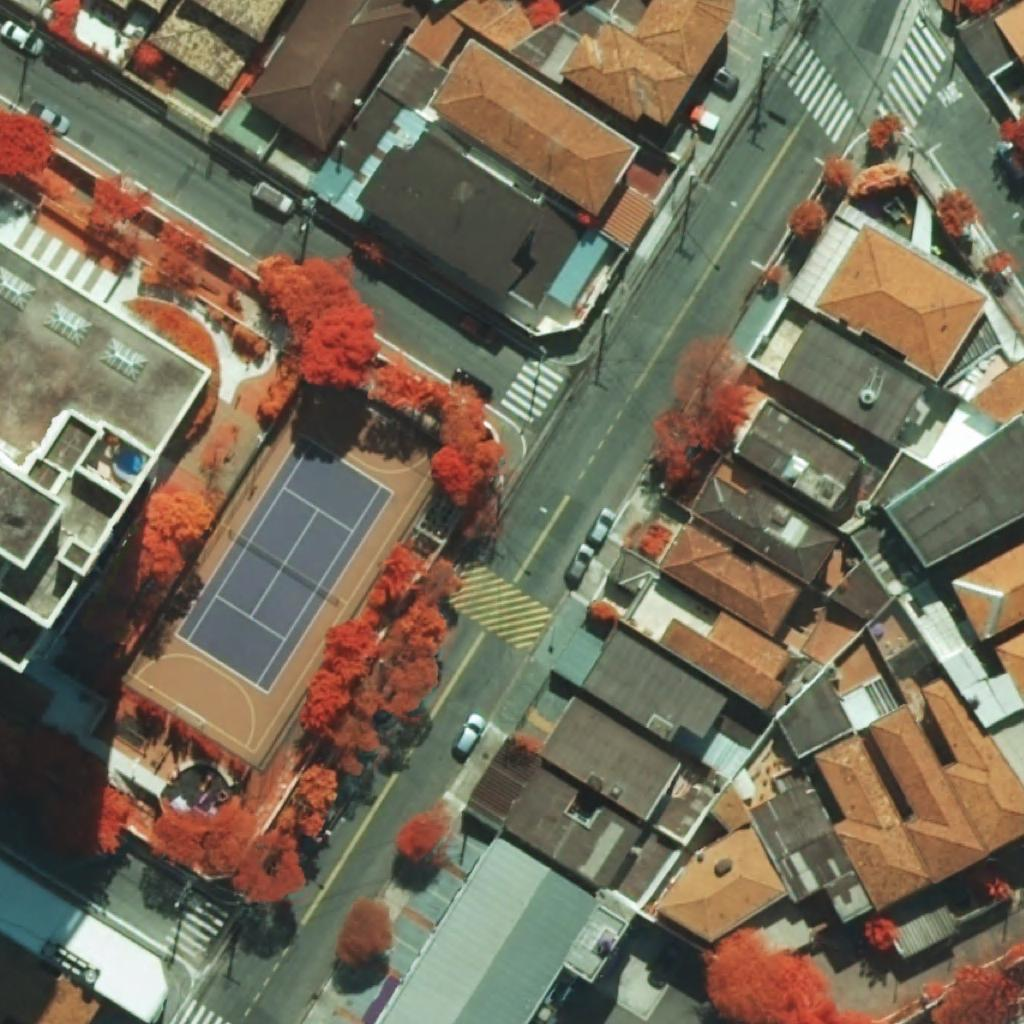pool: (115, 449, 143, 477)
